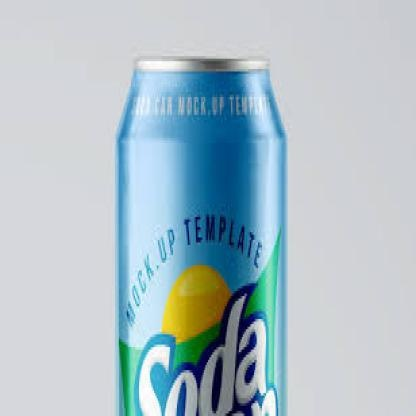trash: (117, 58, 285, 415)
